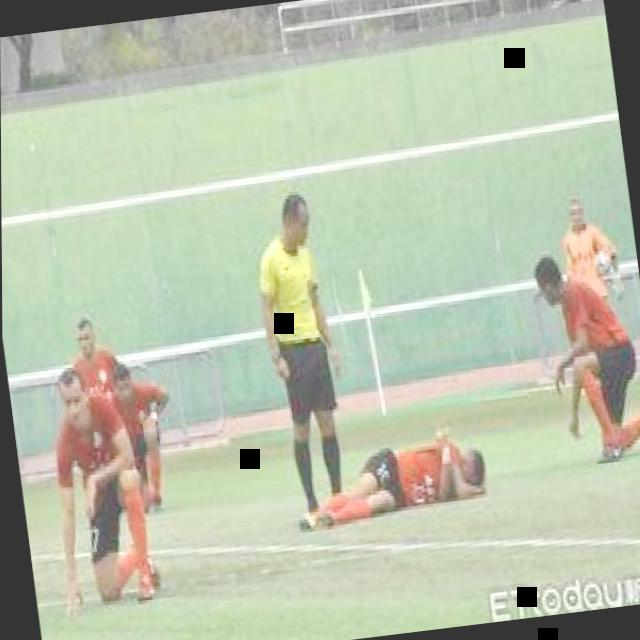Fall-Detected: (269, 403, 499, 534)
